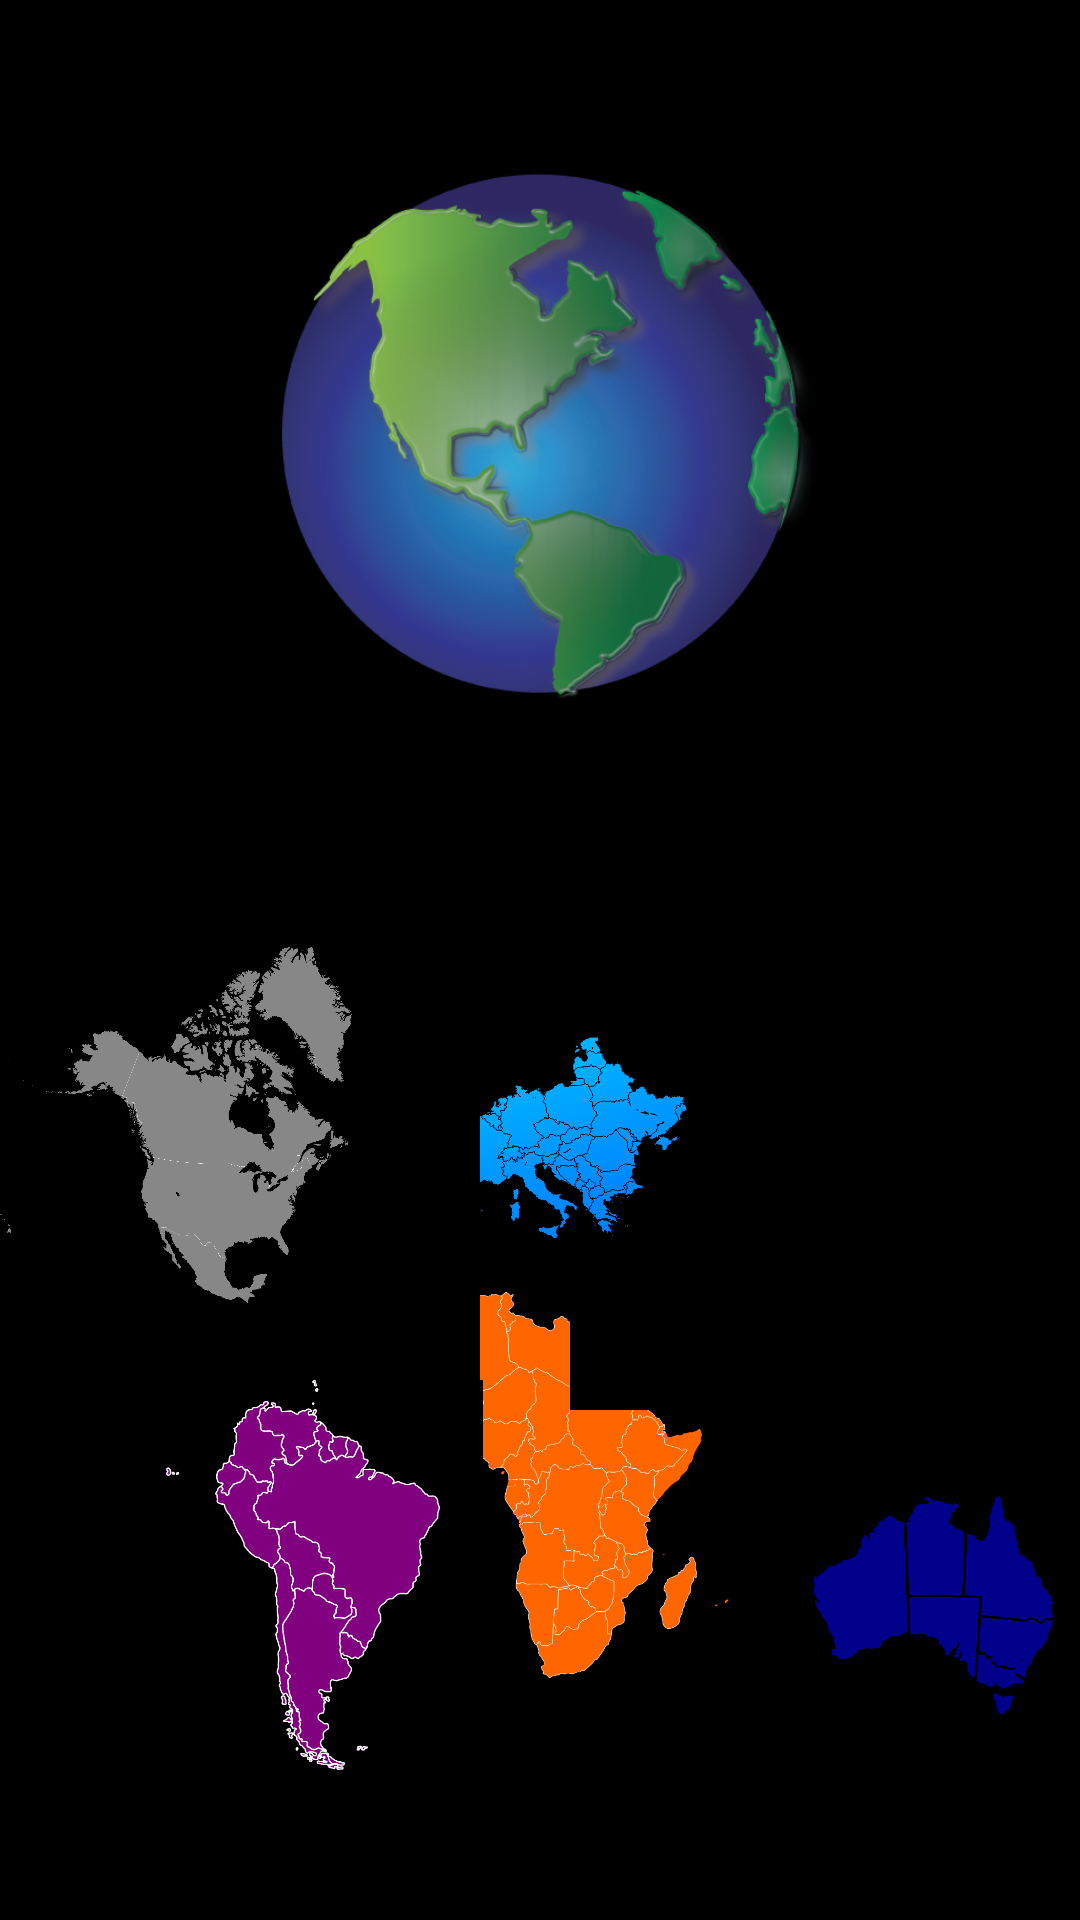

Where icons sit on this 1080w x 1920h app screen, as bbox=[x1, y1, x2, y2]:
australia: bbox=[813, 1496, 1053, 1714]
europe: bbox=[480, 1037, 687, 1238]
north: bbox=[0, 947, 352, 1303]
